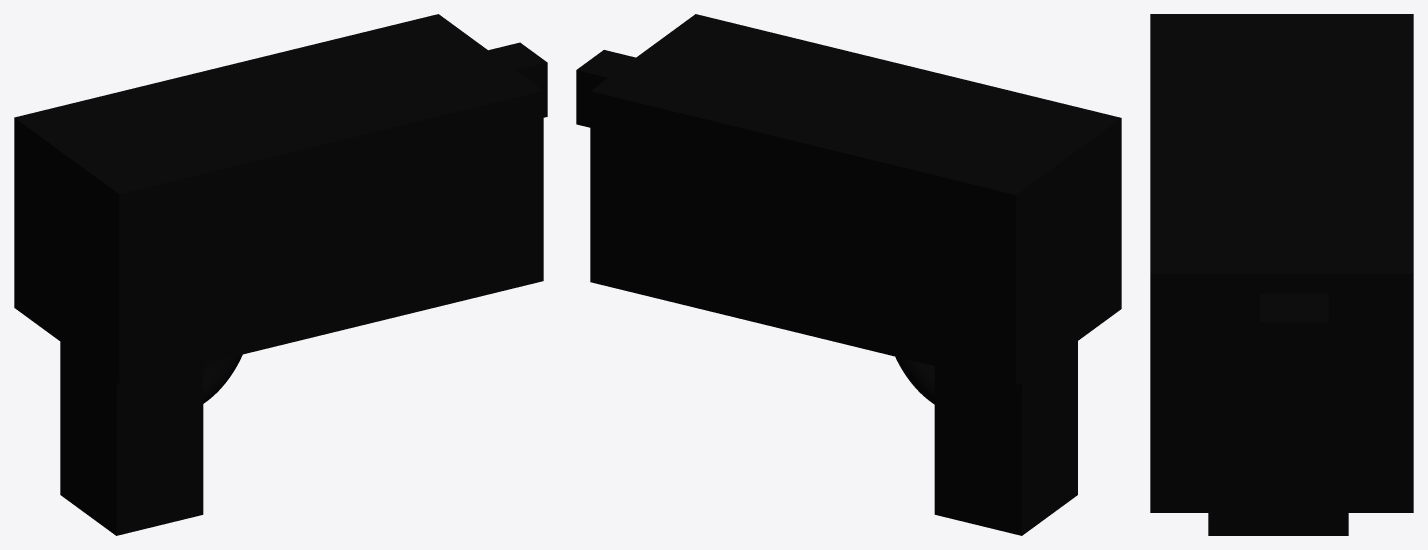
File: gun.glb
The picture shows the model from 3 angles, left to right: view 1: azimuth 30°, elevation 25°; view 2: azimuth 150°, elevation 25°; view 3: azimuth 270°, elevation 25°; orthographic projection. The views are drawn at different scales.
Visible parts, largest first — view 1: mesh_id35, mesh_id27, mesh_id39, mesh_id29; view 2: mesh_id35, mesh_id27, mesh_id39, mesh_id29; view 3: mesh_id35, mesh_id39, mesh_id27.
Boxes of the visible parts, bbox=[...] form: mesh_id35: bbox=[14, 14, 543, 384]; mesh_id27: bbox=[60, 342, 203, 535]; mesh_id39: bbox=[488, 42, 547, 117]; mesh_id29: bbox=[203, 354, 242, 403]; mesh_id35: bbox=[590, 14, 1121, 385]; mesh_id27: bbox=[934, 341, 1077, 535]; mesh_id39: bbox=[576, 50, 635, 127]; mesh_id29: bbox=[895, 356, 934, 404]; mesh_id35: bbox=[1150, 14, 1413, 512]; mesh_id39: bbox=[1259, 293, 1328, 390]; mesh_id27: bbox=[1208, 513, 1348, 535].
Size of the model in its own units: 0.182 by 0.1339 by 0.0701.
Materials: 4 (4 with a texture image).
